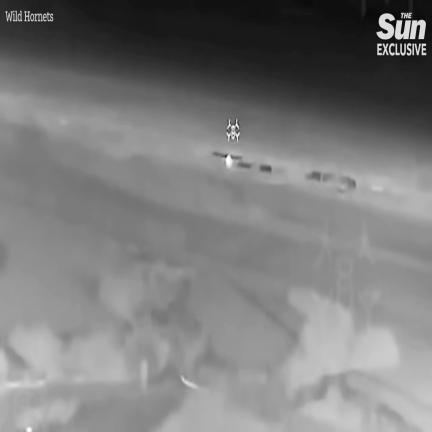Shahed: (215, 153, 241, 168)
